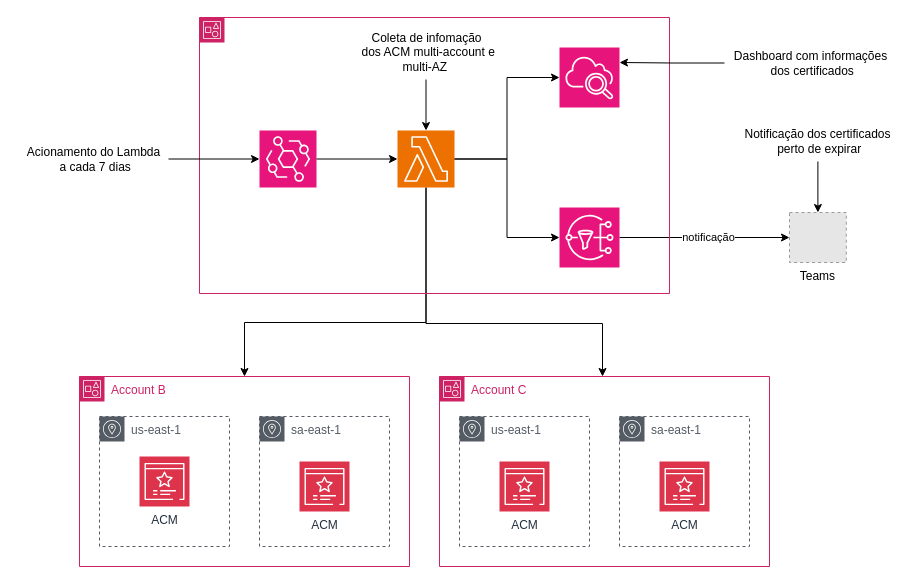
This 917x584 diagram has some shape labels left out. Grey dashed boxes stand in for pictures. The box of each missing label's shape, as (x1, y1, x2, y2) in pixels:
Cloudwatch: (558, 46, 620, 108)
Eventbridge: (258, 130, 316, 188)
Lambda: (396, 130, 454, 188)
Shared Account: (198, 16, 670, 294)
SNS: (558, 206, 620, 268)
